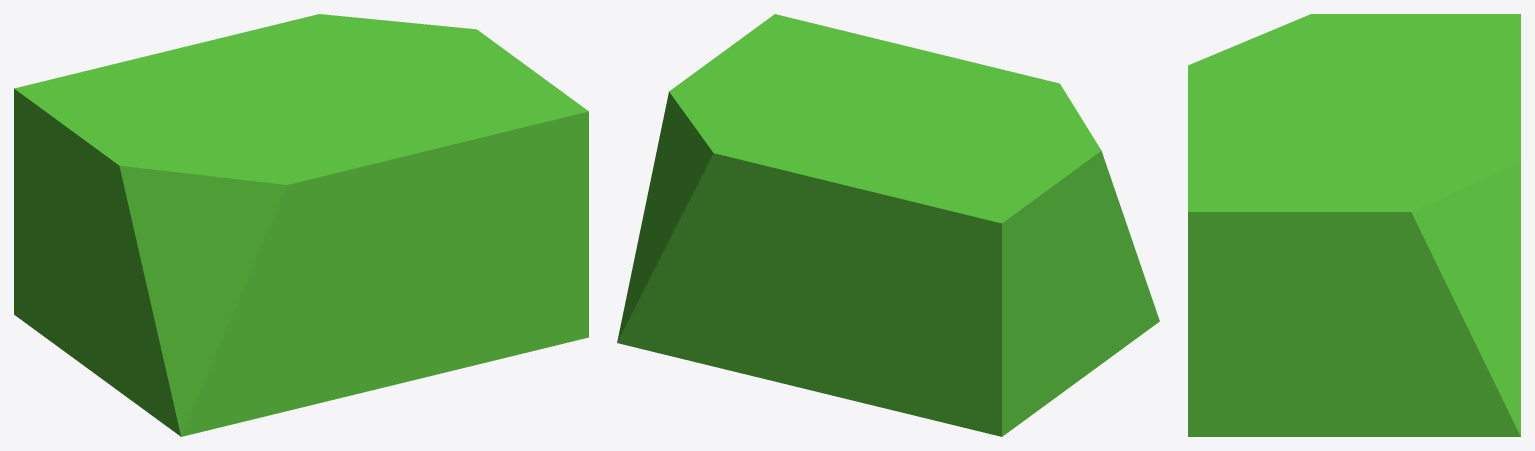
The model's file is Pavement_08.fbx.
The picture shows the model from 3 angles, left to right: view 1: azimuth 30°, elevation 25°; view 2: azimuth 150°, elevation 25°; view 3: azimuth 270°, elevation 25°; orthographic projection. The views are drawn at different scales.
Parts seen in each view (by area): view 1: Pavement_08; view 2: Pavement_08; view 3: Pavement_08.
Boxes of the visible parts, box(x1,y1,x2,y2) form: Pavement_08: box(14, 14, 588, 436); Pavement_08: box(617, 14, 1159, 436); Pavement_08: box(1188, 14, 1520, 436).
Size of the model in its own units: 30.63 by 16.23 by 21.76.
